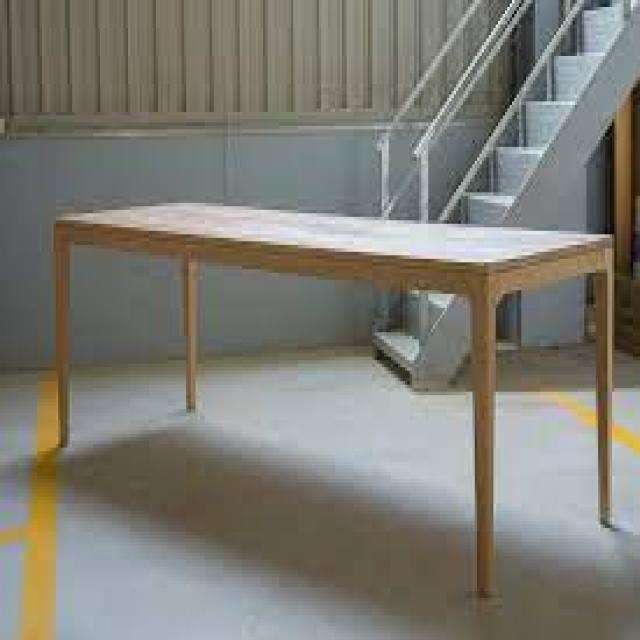table: (22, 129, 627, 602)
